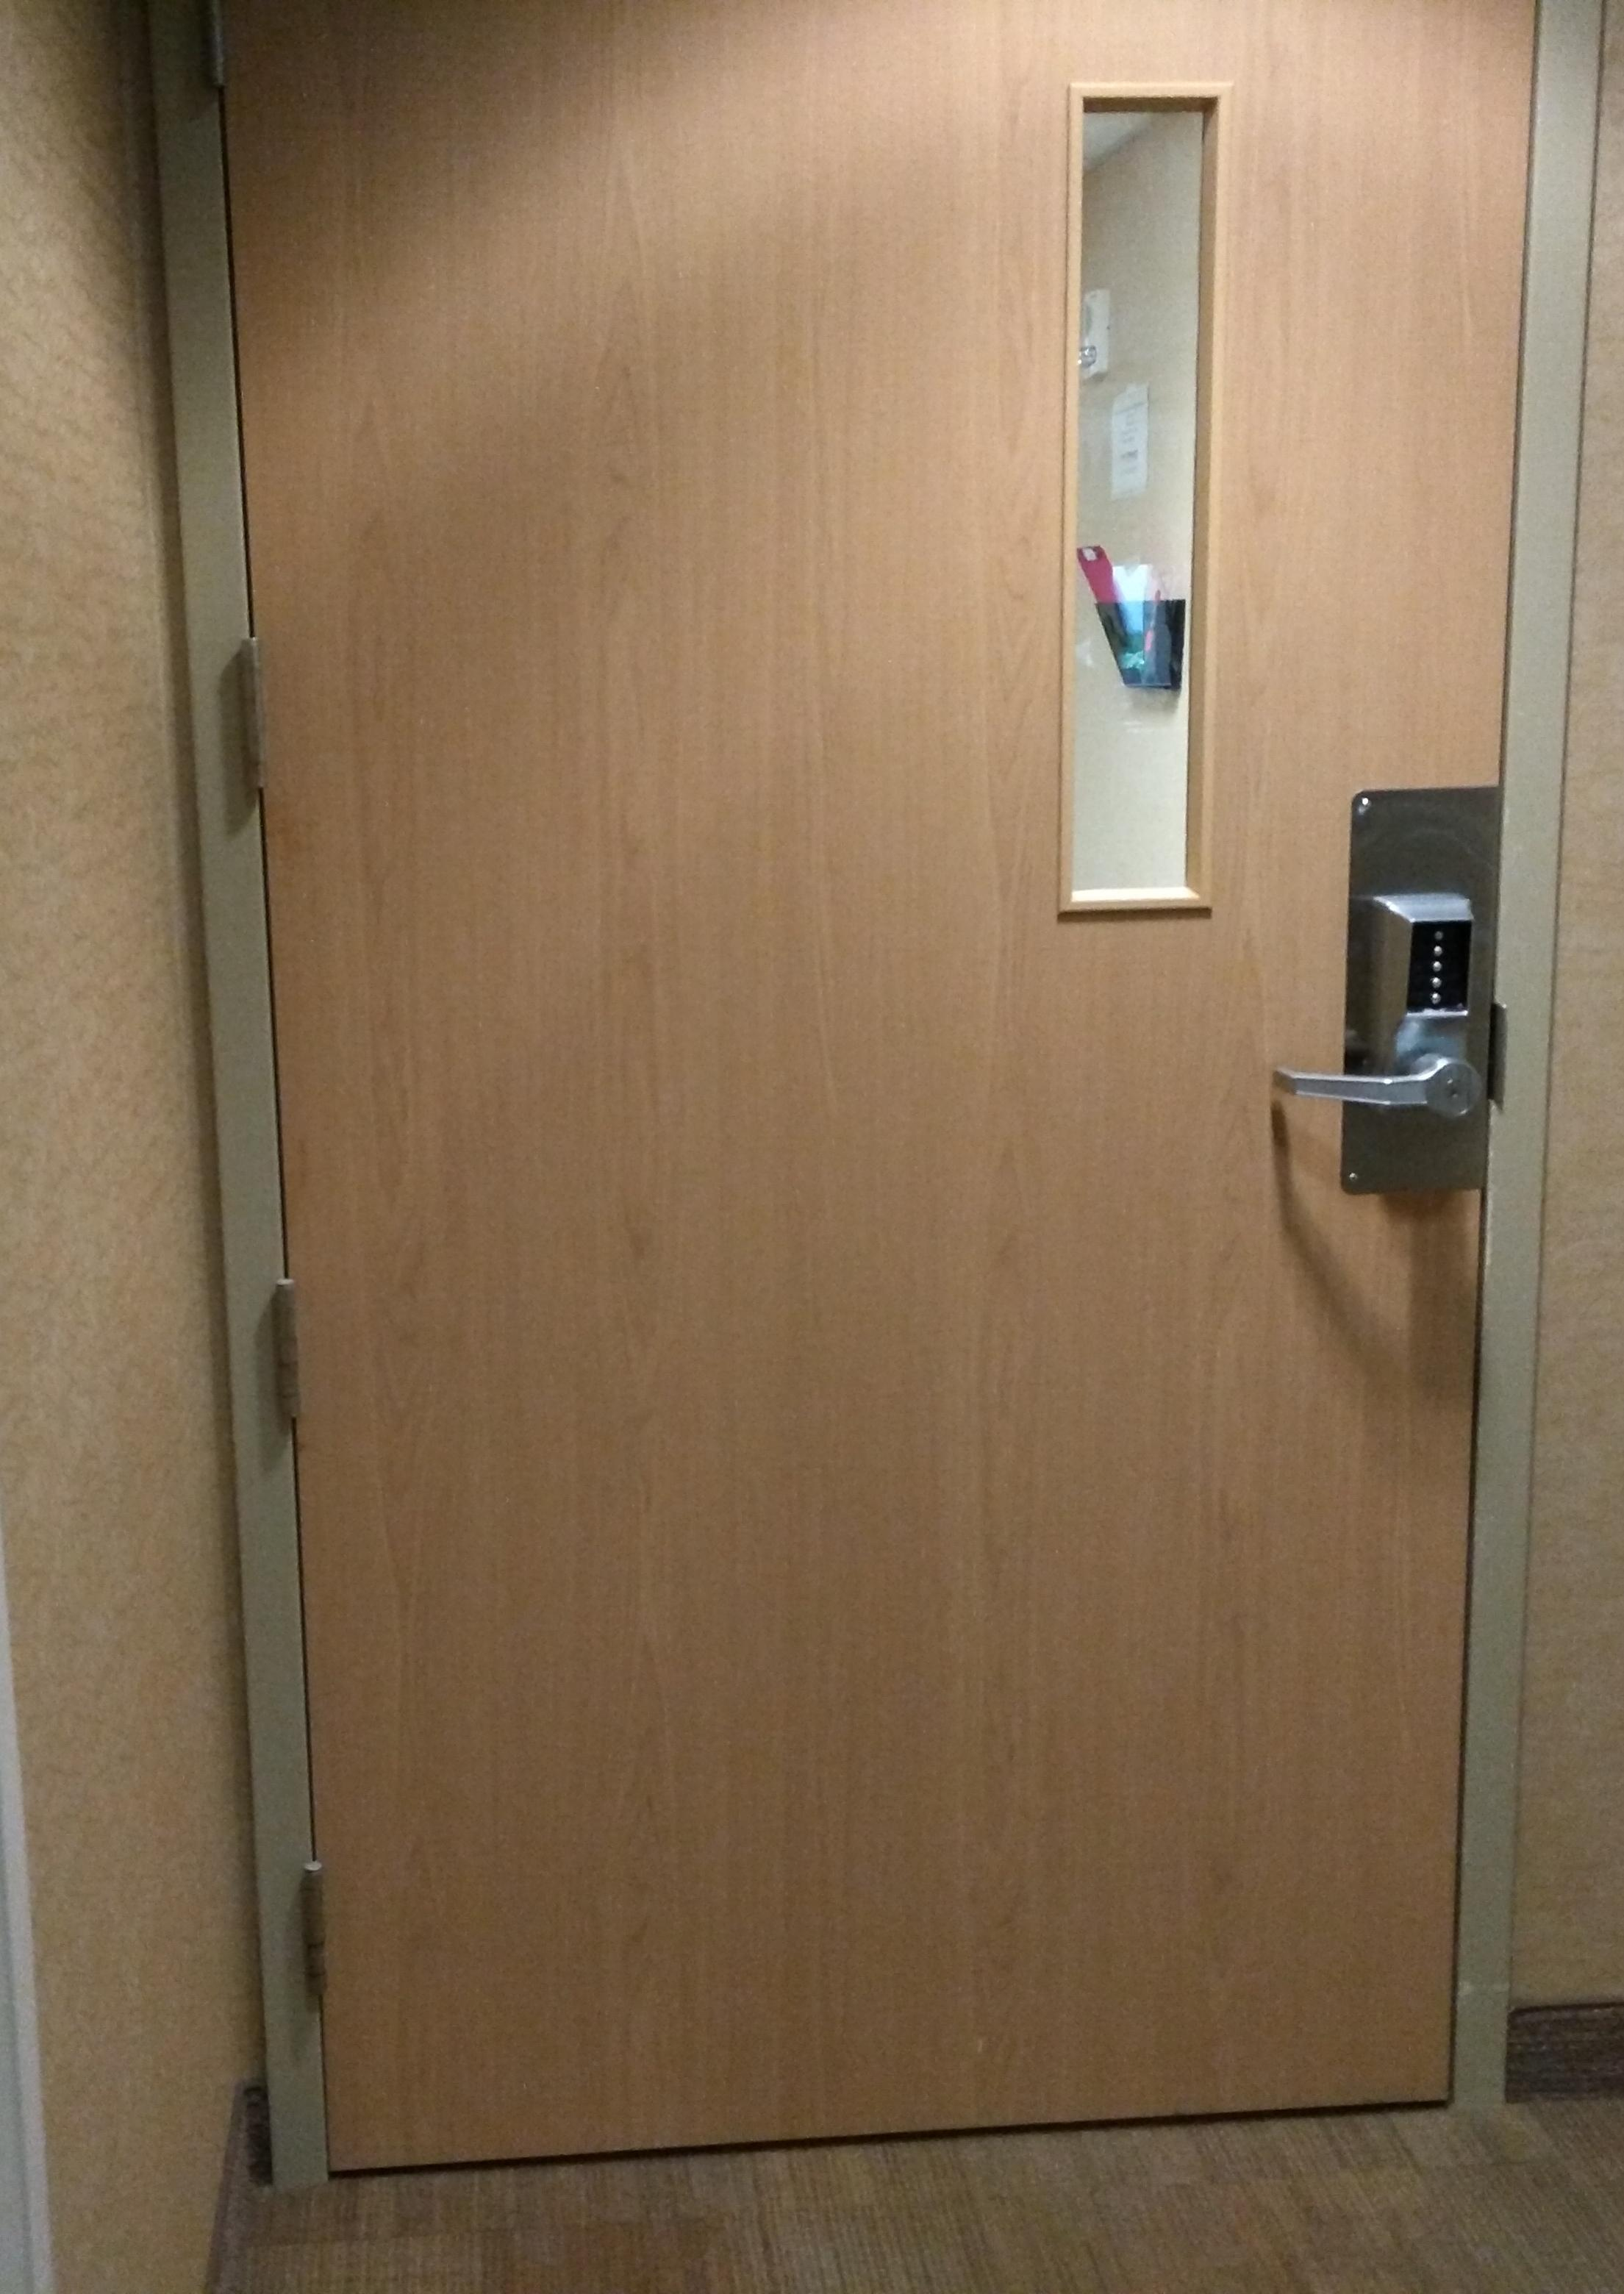door: (294, 76, 1448, 2118)
handle: (1271, 1027, 1490, 1164)
